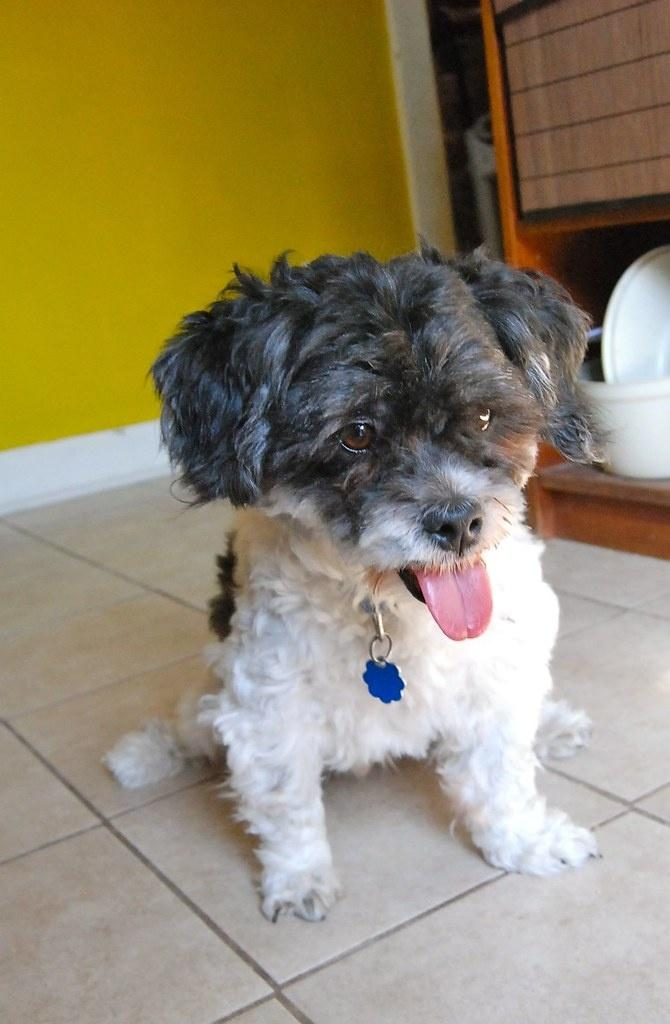dog: (107, 248, 599, 920)
